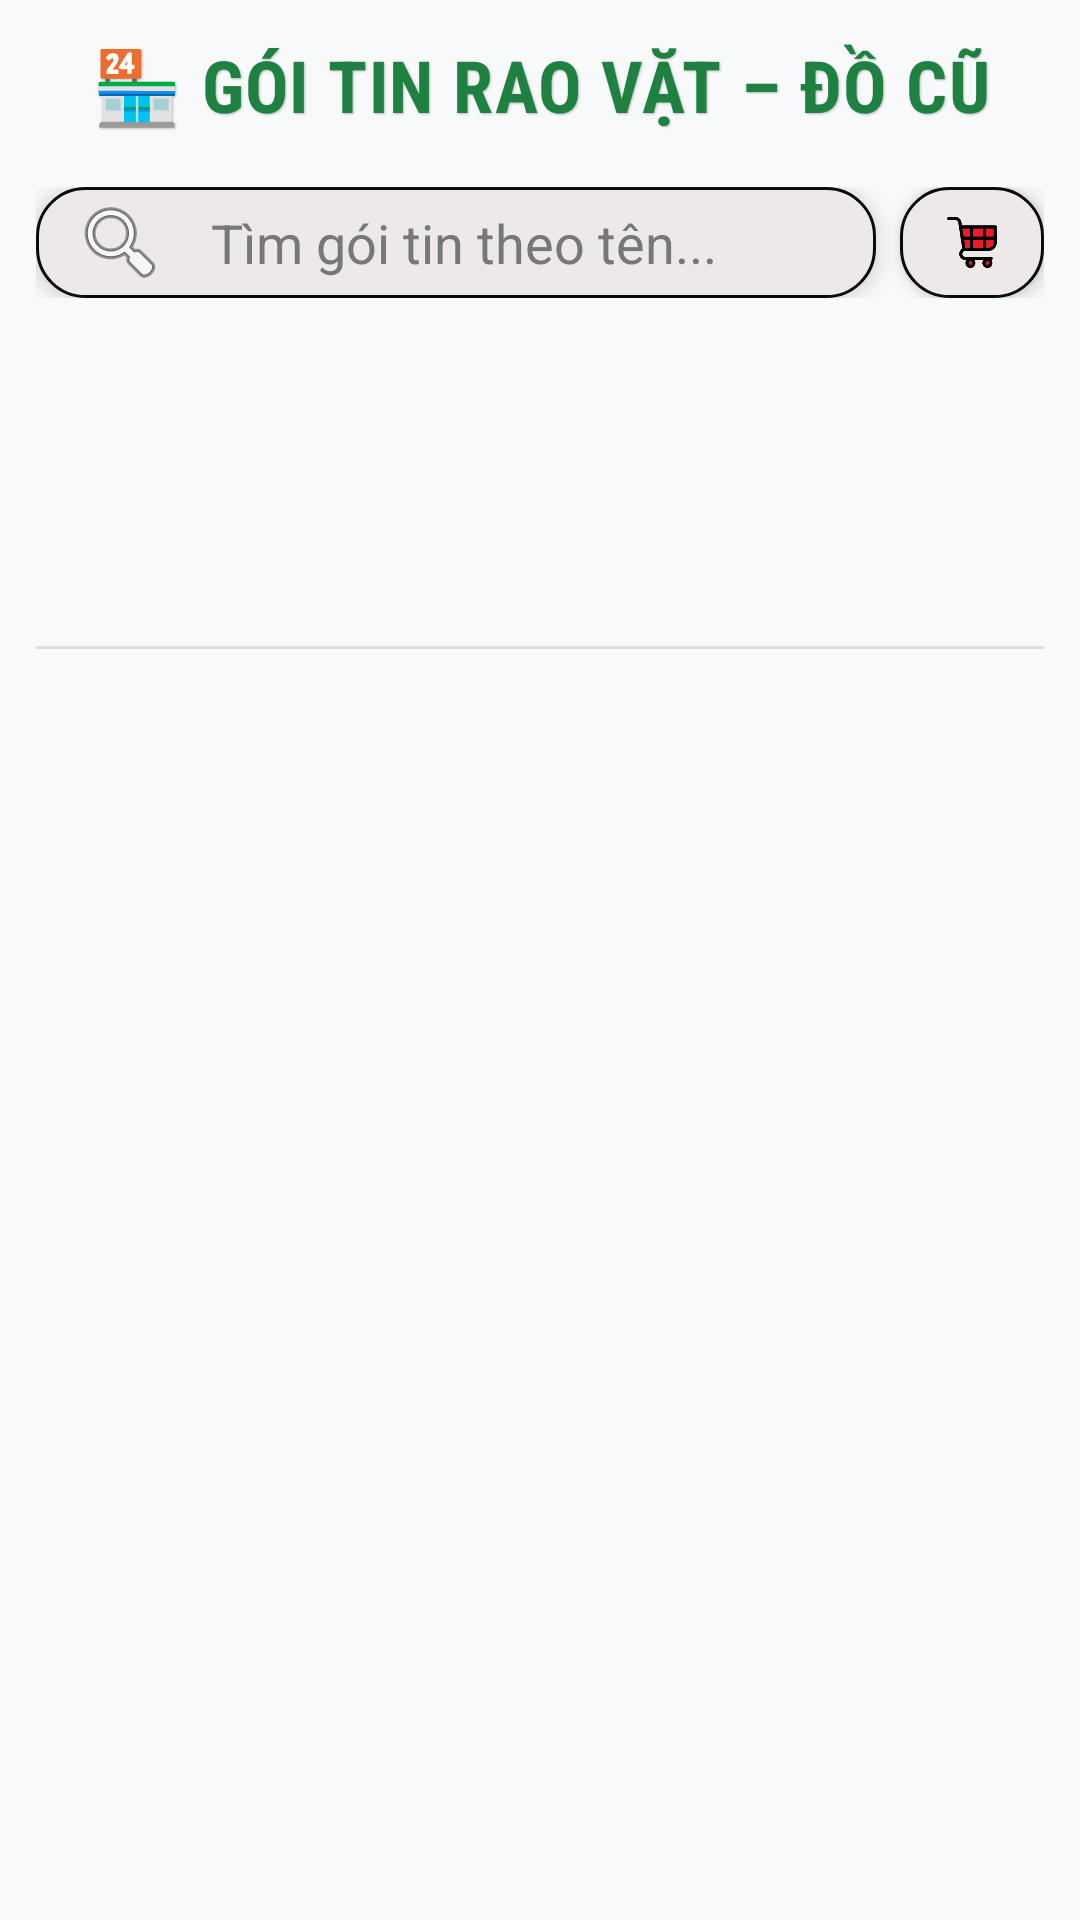

Locate icon controls on the screen. Image size 1080x1920, boxes as bbox(x1, y1, x2, y2).
Giỏ hàng: bbox(900, 187, 1044, 298)
